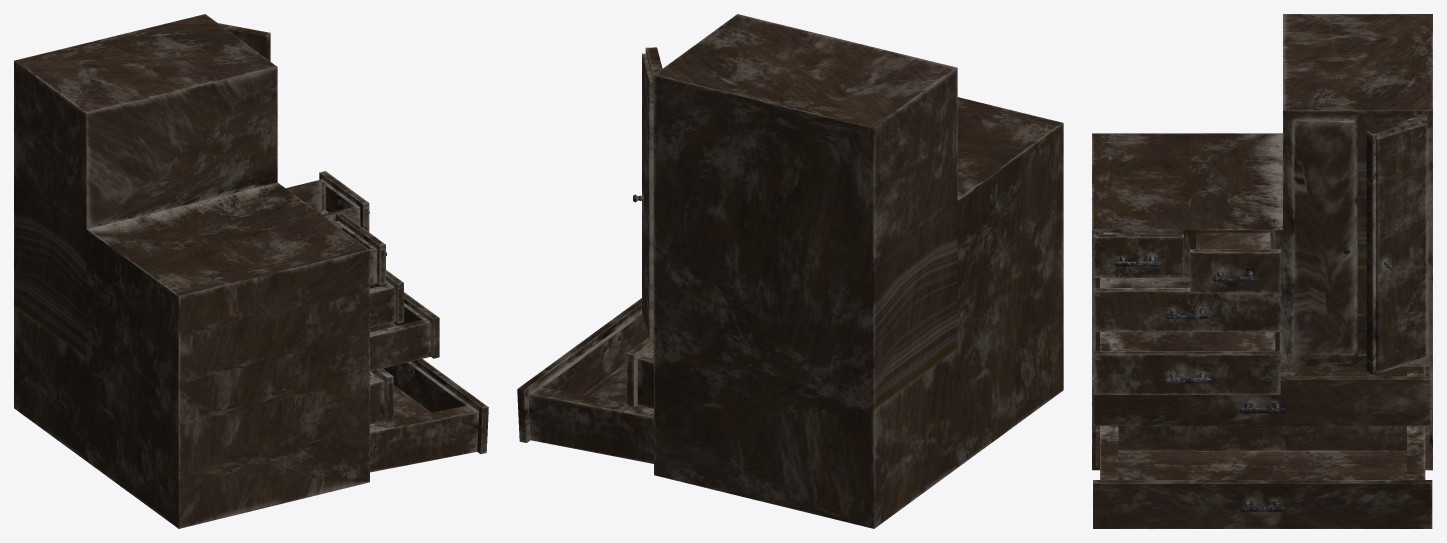
The model's file is closet.glb.
The picture shows the model from 3 angles, left to right: view 1: azimuth 30°, elevation 25°; view 2: azimuth 150°, elevation 25°; view 3: azimuth 270°, elevation 25°; orthographic projection. The views are drawn at different scales.
Visible parts, largest first — view 1: Box019; view 2: Box019; view 3: Box019, Object001_02 - Default_0.
Part boxes in pixels (<box>): Box019: <box>14,14,488,528</box>; Box019: <box>517,14,1063,528</box>; Box019: <box>1092,14,1432,528</box>; Object001_02 - Default_0: <box>1114,246,1392,511</box>.
Bounding box in the file's own units: 192 × 198 × 170.
Materials: 2 (2 with a texture image).
